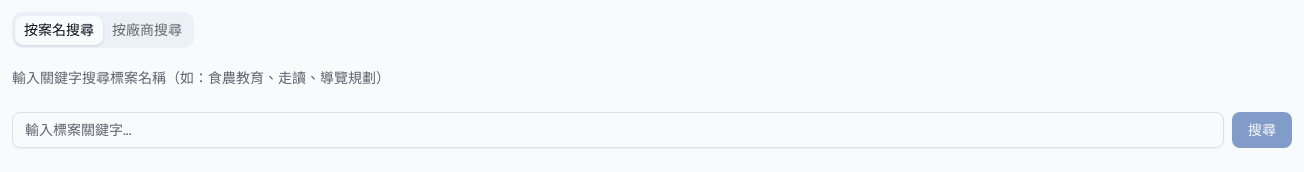
it: PCCSearchPanel — 基本渲染 › 輸入後按鈕可用
This screenshot has width=1304, height=172.
Type "食農教育" into the field with placeholder "輸入標案關鍵字..." at (618, 130), box [12,112,1224,148]
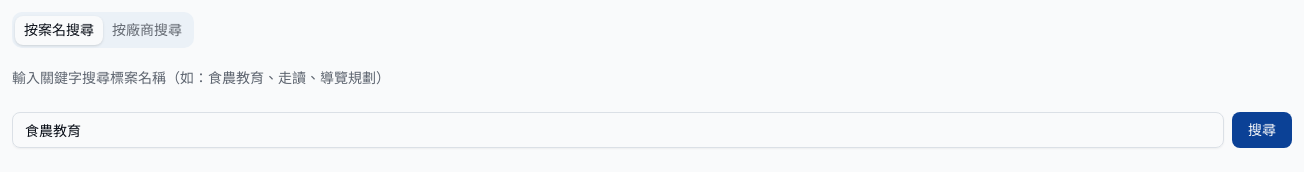
Check: the button "搜尋" is enabled, box [1232,112,1292,148]
